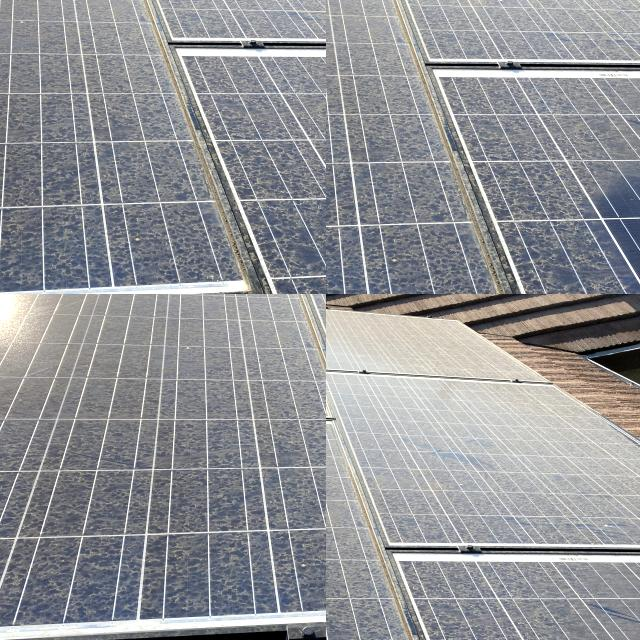dust: (396, 392, 562, 542), (326, 536, 450, 640), (108, 294, 276, 369), (405, 562, 553, 640), (326, 415, 415, 518), (0, 0, 93, 96), (0, 334, 102, 391), (571, 460, 640, 542), (326, 429, 379, 528), (579, 555, 640, 640), (326, 551, 384, 640), (179, 0, 326, 31), (160, 0, 309, 28), (0, 0, 59, 39)
panel: (326, 0, 386, 48), (326, 0, 374, 46), (326, 0, 358, 51), (326, 0, 366, 13), (326, 0, 362, 14), (326, 0, 354, 8)
